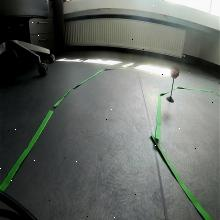stop: (170, 65, 180, 79)
